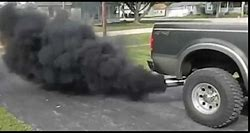smoke: (1, 3, 165, 101)
